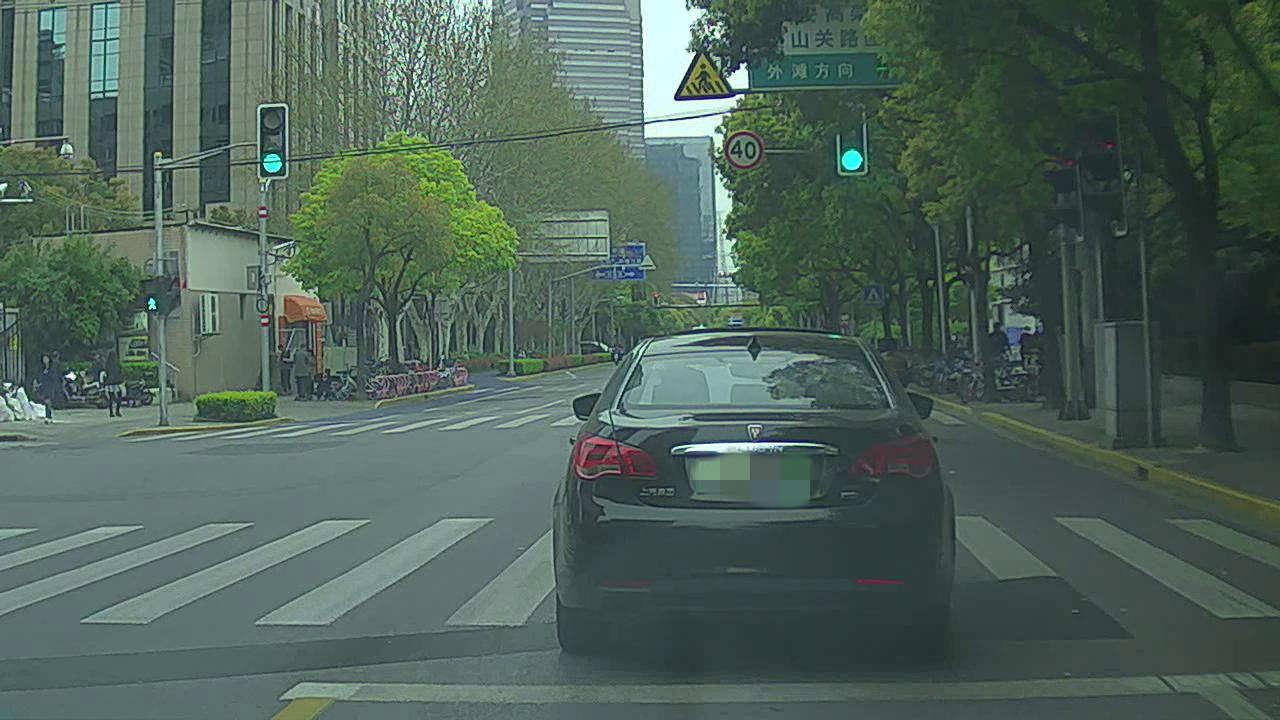traffic_light: (831, 99, 866, 177), (255, 105, 288, 180)
